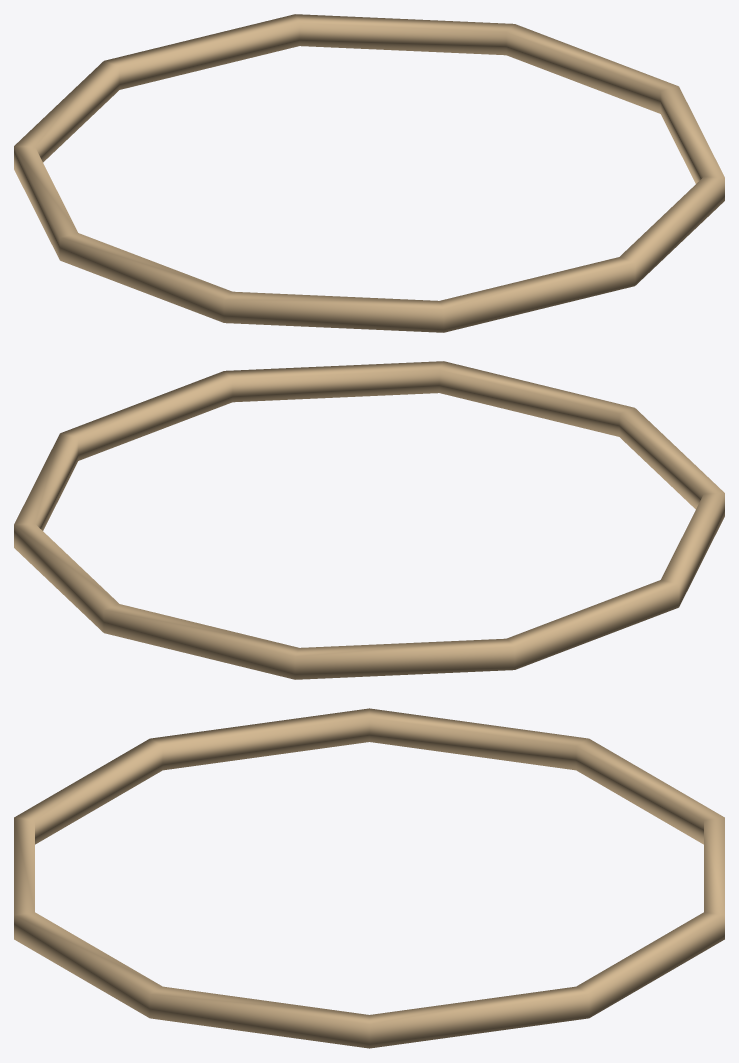
File: prop-flesh-hoop-blank.fbx
The picture shows the model from 3 angles, top to bottom: view 1: azimuth 30°, elevation 25°; view 2: azimuth 150°, elevation 25°; view 3: azimuth 270°, elevation 25°; orthographic projection. The views are drawn at different scales.
Parts seen in each view (by area): view 1: prop-flesh-hoop-blank; view 2: prop-flesh-hoop-blank; view 3: prop-flesh-hoop-blank.
Part boxes in pixels (bbox=[...]): prop-flesh-hoop-blank: bbox=[14, 14, 724, 332]; prop-flesh-hoop-blank: bbox=[14, 361, 724, 679]; prop-flesh-hoop-blank: bbox=[14, 708, 724, 1048].
Bounding box in the file's own units: 33.6 × 1.2 × 31.96.
